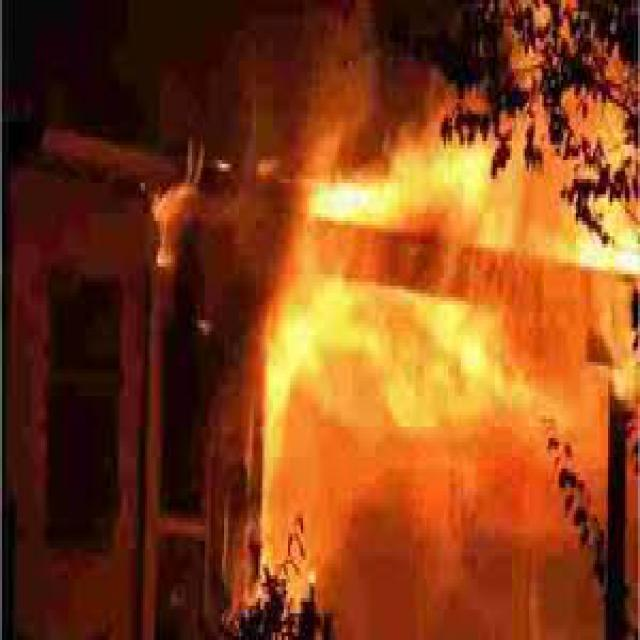Fire: (249, 10, 640, 516)
Smoke: (144, 10, 454, 168)
